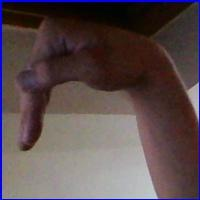A: (15, 14, 177, 162)
